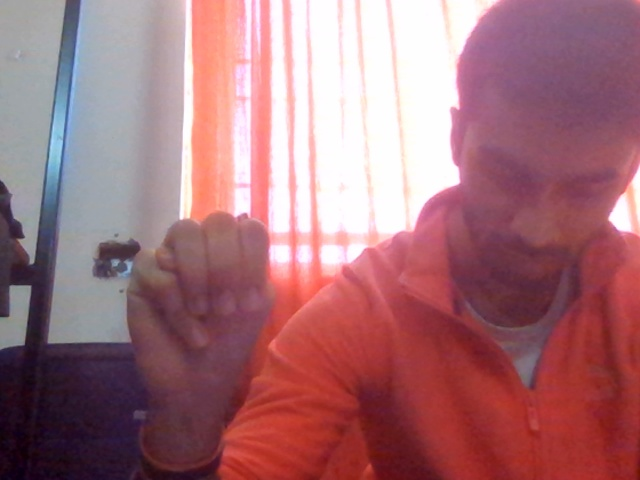M: (104, 187, 352, 445)
